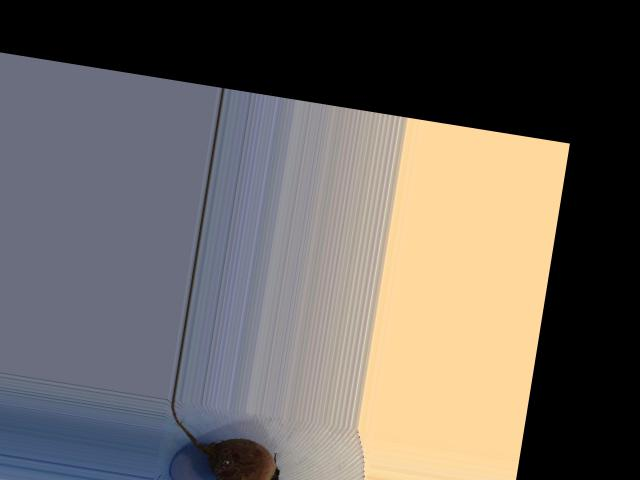beet: (160, 398, 289, 480)
